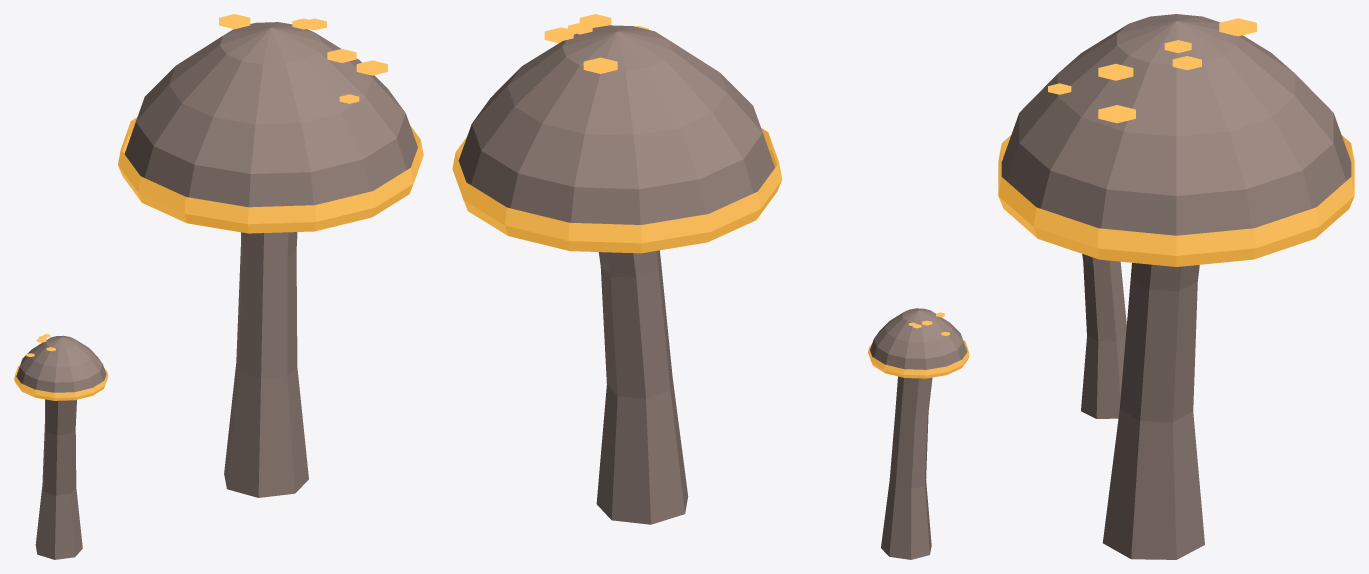
Rendered from cap_v03.glb.
3 renders of one model, left to right at view 1: azimuth 30°, elevation 25°; view 2: azimuth 150°, elevation 25°; view 3: azimuth 270°, elevation 25°, orthographic. The views are drawn at different scales.
Visible parts, largest first — view 1: mushroom_cap_flesh_nocol, mushroom_cap_glow_nocol; view 2: mushroom_cap_flesh_nocol, mushroom_cap_glow_nocol; view 3: mushroom_cap_flesh_nocol, mushroom_cap_glow_nocol.
Part boxes in pixels (x1=…): mushroom_cap_flesh_nocol: x1=16, y1=22, x2=417, y2=559; mushroom_cap_glow_nocol: x1=14, y1=14, x2=423, y2=400; mushroom_cap_flesh_nocol: x1=458, y1=25, x2=967, y2=559; mushroom_cap_glow_nocol: x1=452, y1=14, x2=969, y2=378; mushroom_cap_flesh_nocol: x1=1001, y1=14, x2=1351, y2=559; mushroom_cap_glow_nocol: x1=998, y1=18, x2=1354, y2=266.
Size of the model in its own units: 1.56 by 1.58 by 0.964.
